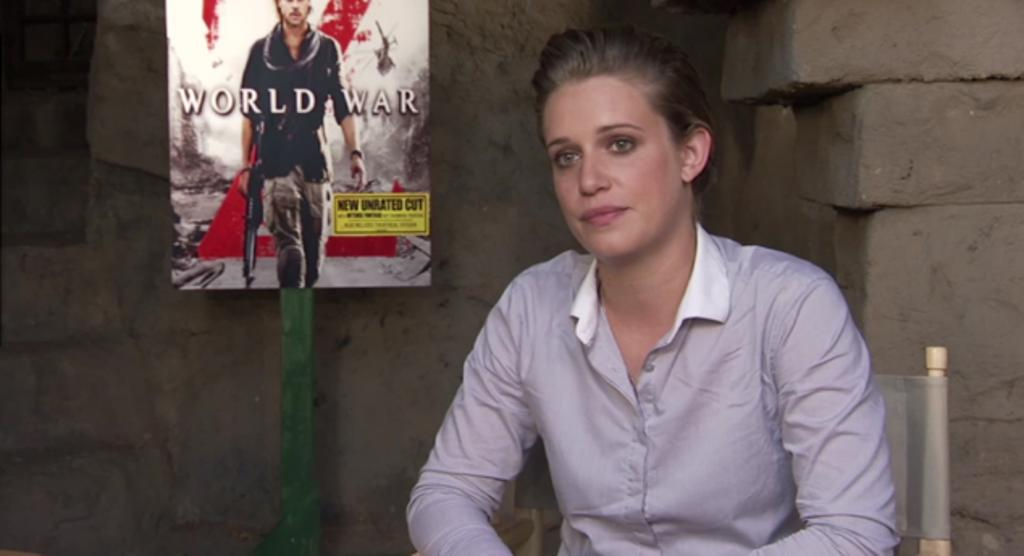face: (546, 74, 678, 260), (280, 1, 311, 25)
